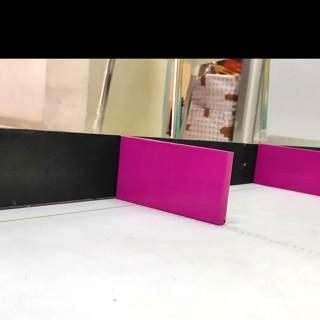xparking: (117, 136, 231, 226), (254, 144, 320, 197)
